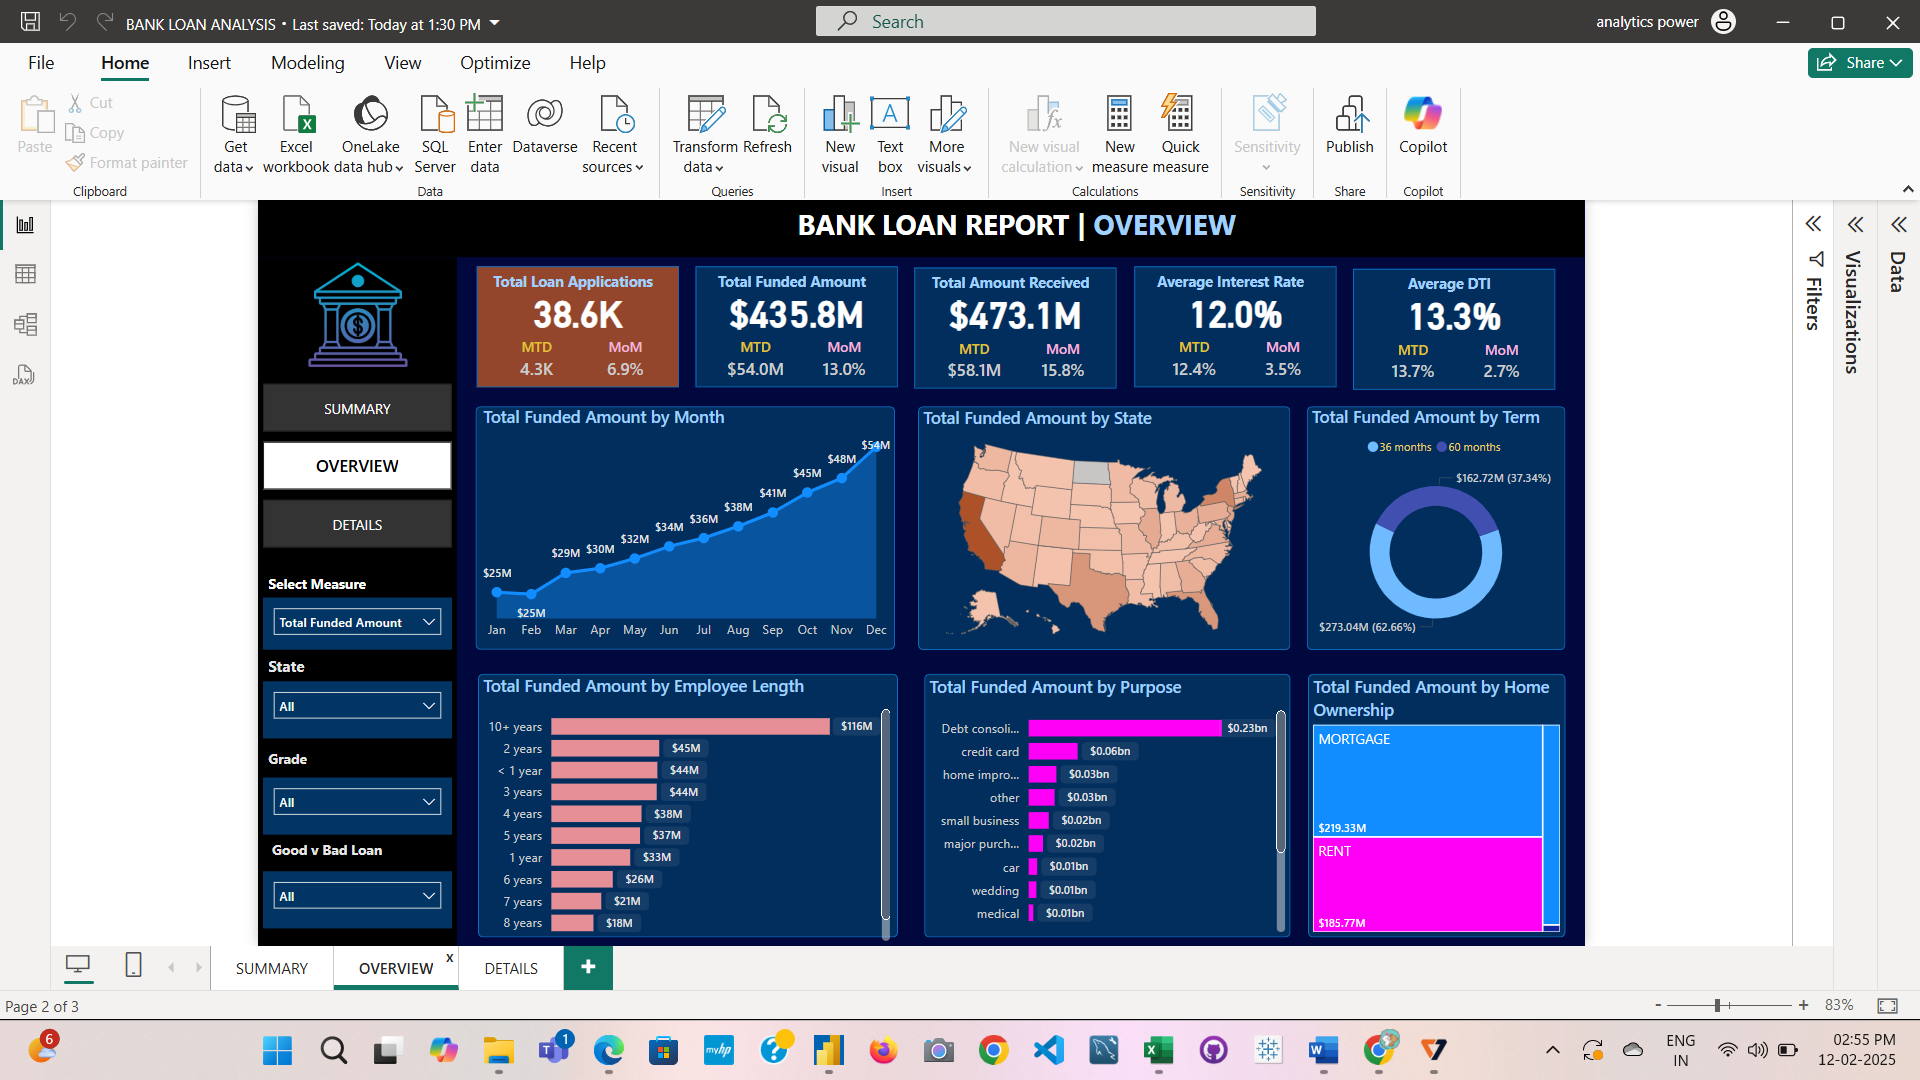

What the dashboard file says about the page in this screenshot:
{"tool":"powerbi","page":{"name":"OVERVIEW","canvas":[1280,720],"ordinal":1},"visuals":[{"type":"shape","box":[209.9,199.1,405,235],"z":0},{"type":"shape","box":[0,0,1280,55.5],"z":1000},{"type":"shape","box":[0,55.5,192,664.7],"z":2000},{"type":"textbox","box":[499.5,0,465.7,55.5],"z":3000},{"type":"shape","box":[211.2,63.9,195.4,117],"z":3000,"group":"g1"},{"type":"shape","box":[422.6,63.9,195.4,117],"z":3000,"group":"g2"},{"type":"shape","box":[845.5,63.9,195.4,117],"z":3000,"group":"g4"},{"type":"shape","box":[634,65.1,195.4,117],"z":3000,"group":"g3"},{"type":"shape","box":[1056.9,66.4,195.4,117],"z":3000,"group":"g5"},{"type":"group","id":"g1","title":"Group 1","box":[201.5,63.9,205.1,117],"z":4000},{"type":"card","fields":{"Values":["bank_loan_data.Total Loan Applicatons"]},"box":[211.2,83.2,195.4,48.3],"z":4000,"group":"g1"},{"type":"card","fields":{"Values":["bank_loan_data.Total Funded Amount"]},"box":[422.6,83.2,195.4,48.3],"z":4000,"group":"g2"},{"type":"card","fields":{"Values":["bank_loan_data.Avg Interest Rate"]},"box":[845.5,83.2,195.4,48.3],"z":4000,"group":"g4"},{"type":"card","fields":{"Values":["bank_loan_data.Total Amount Received"]},"box":[634,84.4,195.4,48.3],"z":4000,"group":"g3"},{"type":"card","fields":{"Values":["bank_loan_data.Avg DTI"]},"box":[1056.9,85.7,195.4,48.3],"z":4000,"group":"g5"},{"type":"textbox","box":[201.5,63.9,205.1,32.6],"z":5000,"group":"g1"},{"type":"group","id":"g2","title":"Group 1","box":[412.9,63.9,205.1,117],"z":5000},{"type":"textbox","box":[412.9,63.9,205.1,32.6],"z":5000,"group":"g2"},{"type":"textbox","box":[835.8,63.9,205.1,32.6],"z":5000,"group":"g4"},{"type":"textbox","box":[624.3,65.1,205.1,32.6],"z":5000,"group":"g3"},{"type":"textbox","box":[1047.2,66.4,205.1,32.6],"z":5000,"group":"g5"},{"type":"group","id":"g3","title":"Group 1","box":[624.3,65.1,205.1,117],"z":6000},{"type":"card","title":"MTD","fields":{"Values":["bank_loan_data.MTD Loan Applications"]},"box":[234.1,132.7,70,44.6],"z":6000,"group":"g1"},{"type":"card","title":"MTD","fields":{"Values":["bank_loan_data.MTD Funded Amount"]},"box":[445.5,132.7,70,44.6],"z":6000,"group":"g2"},{"type":"card","title":"MTD","fields":{"Values":["bank_loan_data.MTD Average Int Rate"]},"box":[868.4,132.7,70,44.6],"z":6000,"group":"g4"},{"type":"card","title":"MTD","fields":{"Values":["bank_loan_data.MTD Total Amount Received"]},"box":[656.9,133.9,70,44.6],"z":6000,"group":"g3"},{"type":"card","title":"MTD","fields":{"Values":["bank_loan_data.MTD Average DTI"]},"box":[1079.8,135.2,70,44.6],"z":6000,"group":"g5"},{"type":"group","id":"g4","title":"Group 1","box":[835.8,63.9,205.1,117],"z":7000},{"type":"card","title":"MoM","fields":{"Values":["bank_loan_data.MoM Loan Applications"]},"box":[319.7,132.7,70,44.6],"z":7000,"group":"g1"},{"type":"card","title":"MoM","fields":{"Values":["bank_loan_data.MoM Total Funded Amount"]},"box":[531.1,132.7,70,44.6],"z":7000,"group":"g2"},{"type":"card","title":"MoM","fields":{"Values":["bank_loan_data.MoM Avg Int Rate"]},"box":[954,132.7,70,44.6],"z":7000,"group":"g4"},{"type":"card","title":"MoM","fields":{"Values":["bank_loan_data.MoM Total Amount Received"]},"box":[742.5,133.9,70,44.6],"z":7000,"group":"g3"},{"type":"card","title":"MoM","fields":{"Values":["bank_loan_data.MoM Avg DTI"]},"box":[1165.4,135.2,70,44.6],"z":7000,"group":"g5"},{"type":"group","id":"g5","title":"Group 1","box":[1047.2,66.4,205.1,117],"z":8000},{"type":"slicer","fields":{"Values":["bank_loan_data.address_state"]},"box":[4.8,464.5,182.2,55.5],"z":9000},{"type":"textbox","box":[4.8,434.5,107.4,36.2],"z":10000},{"type":"slicer","fields":{"Values":["bank_loan_data.grade"]},"box":[4.8,557.6,182.2,55.5],"z":11000},{"type":"textbox","box":[4.8,525,182.2,32.6],"z":12000},{"type":"slicer","fields":{"Values":["bank_loan_data.Good vs Bad Loan"]},"box":[4.8,648.1,182.2,55.5],"z":13000},{"type":"textbox","box":[4.8,613.1,182.2,35],"z":14000},{"type":"areaChart","fields":{"Y":["bank_loan_data.Total Funded Amount"],"Category":["Date Table.Month"]},"box":[212.3,197.9,403,235.3],"z":15000},{"type":"slicer","fields":{"Values":["Select Measure.Select Measure"]},"box":[4.8,383.9,182.2,50.7],"z":16000},{"type":"textbox","box":[4.8,356.1,158,27.7],"z":17000},{"type":"shape","box":[637,199.1,359.5,235.3],"z":18000},{"type":"shapeMap","fields":{"Value":["bank_loan_data.Total Funded Amount"],"Category":["bank_loan_data.address_state"]},"box":[637,199.1,359.5,235.3],"z":19000},{"type":"shape","box":[1012.2,199.1,249.7,235.3],"z":20000},{"type":"donutChart","fields":{"Y":["bank_loan_data.Total Funded Amount"],"Category":["bank_loan_data.term"]},"box":[1012.2,197.9,249.7,235.3],"z":21000},{"type":"shape","box":[212.3,457.2,405.4,254.6],"z":22000},{"type":"barChart","fields":{"Y":["bank_loan_data.Total Funded Amount"],"Category":["bank_loan_data.emp_length"]},"box":[212.3,457.2,403,263],"z":23000},{"type":"shape","box":[643,457.2,353.5,254.6],"z":24000},{"type":"shape","box":[1013.4,457.2,248.5,254.6],"z":25000},{"type":"barChart","fields":{"Y":["bank_loan_data.Total Funded Amount"],"Category":["bank_loan_data.purpose"]},"box":[643,458.4,353.5,253.4],"z":26000},{"type":"treemap","fields":{"Values":["bank_loan_data.Total Funded Amount"],"Group":["bank_loan_data.home_ownership"]},"box":[1013.4,458.4,248.5,253.4],"z":27000},{"type":"pageNavigator","box":[4.8,177.3,182.2,159.3],"z":28000},{"type":"image","box":[13.3,55.5,166.5,111],"z":29000}]}

Visuals, with their boxes on the page's 1280x720 design canvas (x1, y1, x2, y2). These are canvas units, not pixel positions in the 1920x1080 screenshot, which may show the page scaled, cropped or inside an application window:
shape: pyautogui.locateOnScreen(210, 199, 615, 434)
shape: pyautogui.locateOnScreen(0, 0, 1280, 56)
shape: pyautogui.locateOnScreen(0, 56, 192, 720)
textbox: pyautogui.locateOnScreen(500, 0, 965, 56)
shape: pyautogui.locateOnScreen(211, 64, 407, 181)
shape: pyautogui.locateOnScreen(423, 64, 618, 181)
shape: pyautogui.locateOnScreen(846, 64, 1041, 181)
shape: pyautogui.locateOnScreen(634, 65, 829, 182)
shape: pyautogui.locateOnScreen(1057, 66, 1252, 183)
"Group 1" group: pyautogui.locateOnScreen(202, 64, 407, 181)
card - bank_loan_data.Total Loan Applicatons: pyautogui.locateOnScreen(211, 83, 407, 132)
card - bank_loan_data.Total Funded Amount: pyautogui.locateOnScreen(423, 83, 618, 132)
card - bank_loan_data.Avg Interest Rate: pyautogui.locateOnScreen(846, 83, 1041, 132)
card - bank_loan_data.Total Amount Received: pyautogui.locateOnScreen(634, 84, 829, 133)
card - bank_loan_data.Avg DTI: pyautogui.locateOnScreen(1057, 86, 1252, 134)
textbox: pyautogui.locateOnScreen(202, 64, 407, 96)
"Group 1" group: pyautogui.locateOnScreen(413, 64, 618, 181)
textbox: pyautogui.locateOnScreen(413, 64, 618, 96)
textbox: pyautogui.locateOnScreen(836, 64, 1041, 96)
textbox: pyautogui.locateOnScreen(624, 65, 829, 98)
textbox: pyautogui.locateOnScreen(1047, 66, 1252, 99)
"Group 1" group: pyautogui.locateOnScreen(624, 65, 829, 182)
"MTD" card: pyautogui.locateOnScreen(234, 133, 304, 177)
"MTD" card: pyautogui.locateOnScreen(446, 133, 516, 177)
"MTD" card: pyautogui.locateOnScreen(868, 133, 938, 177)
"MTD" card: pyautogui.locateOnScreen(657, 134, 727, 178)
"MTD" card: pyautogui.locateOnScreen(1080, 135, 1150, 180)
"Group 1" group: pyautogui.locateOnScreen(836, 64, 1041, 181)
"MoM" card: pyautogui.locateOnScreen(320, 133, 390, 177)
"MoM" card: pyautogui.locateOnScreen(531, 133, 601, 177)
"MoM" card: pyautogui.locateOnScreen(954, 133, 1024, 177)
"MoM" card: pyautogui.locateOnScreen(742, 134, 812, 178)
"MoM" card: pyautogui.locateOnScreen(1165, 135, 1235, 180)
"Group 1" group: pyautogui.locateOnScreen(1047, 66, 1252, 183)
slicer - bank_loan_data.address_state: pyautogui.locateOnScreen(5, 464, 187, 520)
textbox: pyautogui.locateOnScreen(5, 434, 112, 471)
slicer - bank_loan_data.grade: pyautogui.locateOnScreen(5, 558, 187, 613)
textbox: pyautogui.locateOnScreen(5, 525, 187, 558)
slicer - bank_loan_data.Good vs Bad Loan: pyautogui.locateOnScreen(5, 648, 187, 704)
textbox: pyautogui.locateOnScreen(5, 613, 187, 648)
areaChart - bank_loan_data.Total Funded Amount x Date Table.Month: pyautogui.locateOnScreen(212, 198, 615, 433)
slicer - Select Measure.Select Measure: pyautogui.locateOnScreen(5, 384, 187, 435)
textbox: pyautogui.locateOnScreen(5, 356, 163, 384)
shape: pyautogui.locateOnScreen(637, 199, 996, 434)
shapeMap - bank_loan_data.Total Funded Amount x bank_loan_data.address_state: pyautogui.locateOnScreen(637, 199, 996, 434)
shape: pyautogui.locateOnScreen(1012, 199, 1262, 434)
donutChart - bank_loan_data.Total Funded Amount x bank_loan_data.term: pyautogui.locateOnScreen(1012, 198, 1262, 433)
shape: pyautogui.locateOnScreen(212, 457, 618, 712)
barChart - bank_loan_data.Total Funded Amount x bank_loan_data.emp_length: pyautogui.locateOnScreen(212, 457, 615, 720)
shape: pyautogui.locateOnScreen(643, 457, 996, 712)
shape: pyautogui.locateOnScreen(1013, 457, 1262, 712)
barChart - bank_loan_data.Total Funded Amount x bank_loan_data.purpose: pyautogui.locateOnScreen(643, 458, 996, 712)
treemap - bank_loan_data.Total Funded Amount x bank_loan_data.home_ownership: pyautogui.locateOnScreen(1013, 458, 1262, 712)
pageNavigator: pyautogui.locateOnScreen(5, 177, 187, 337)
image: pyautogui.locateOnScreen(13, 56, 180, 166)
